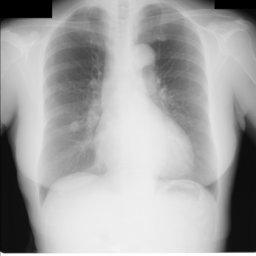left lobe: (138, 4, 216, 186)
right lobe: (41, 8, 107, 186)
